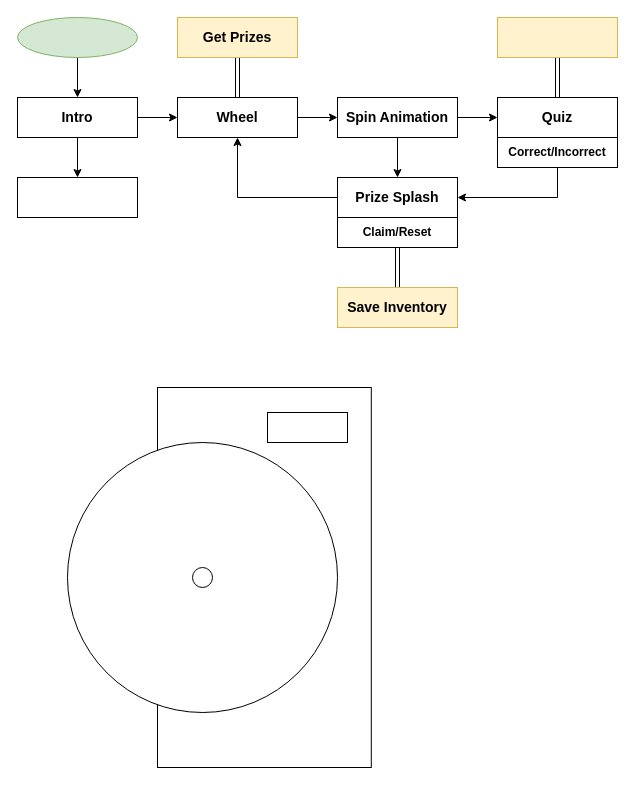
The diagram is 635 pixels wide and 785 high, and some of its shapes have lost their labels. The shapes that lost their labels are listed below. From the top down, each one's centre as x and y in pixels, then its label:
the point at 77,37: Start
the point at 557,37: Get Questions
the point at 77,197: Settings
the point at 307,427: SPIN
